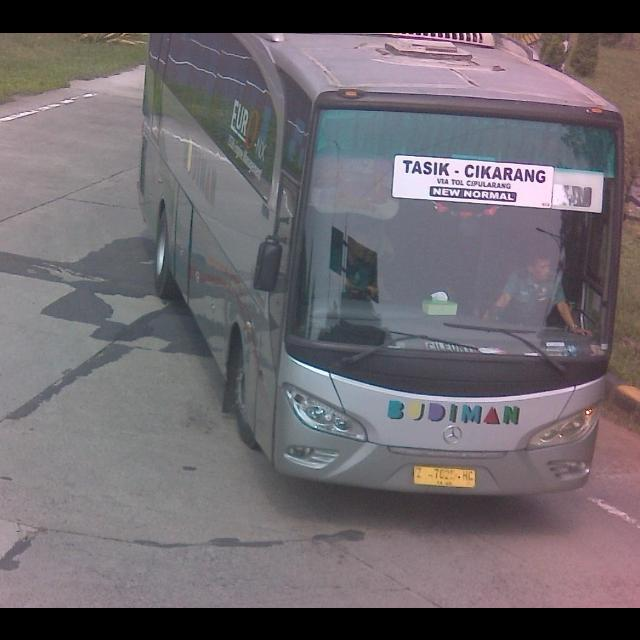plate: (413, 462, 483, 490)
